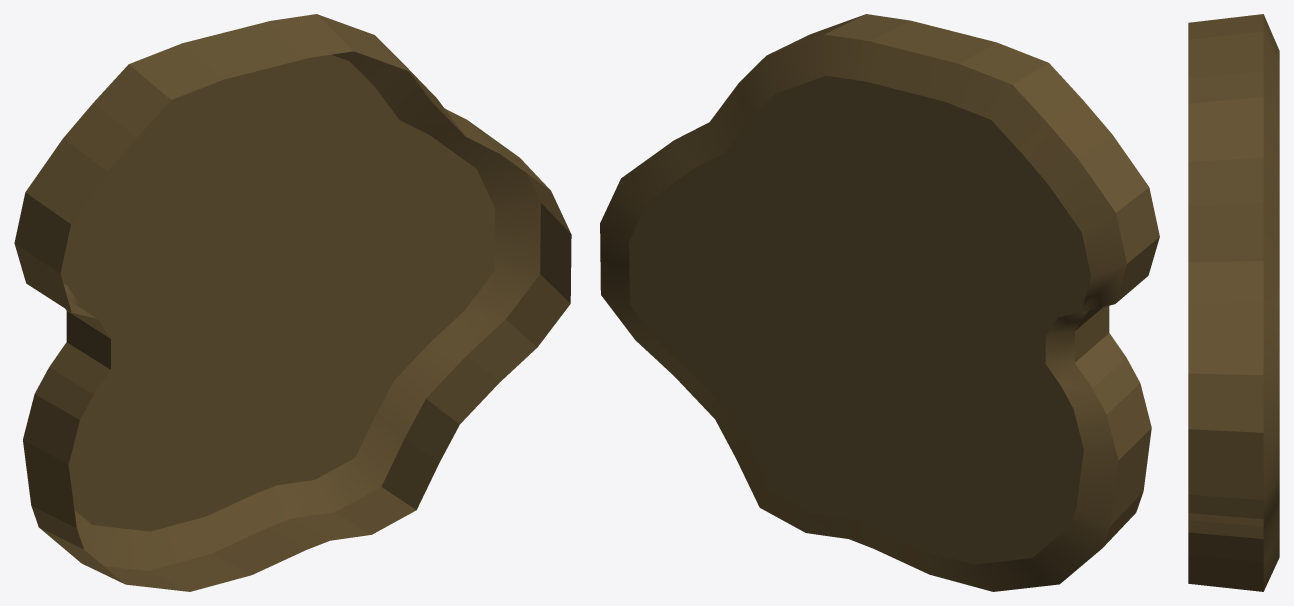
Rendered from Ground Soil 01.FBX.
The picture shows the model from 3 angles, left to right: view 1: azimuth 30°, elevation 25°; view 2: azimuth 150°, elevation 25°; view 3: azimuth 270°, elevation 25°; orthographic projection. The views are drawn at different scales.
Parts seen in each view (by area): view 1: Ground Soil 01; view 2: Ground Soil 01; view 3: Ground Soil 01.
Part boxes in pixels (x1,y1,x2,y2): Ground Soil 01: (14, 14, 571, 591); Ground Soil 01: (600, 14, 1159, 591); Ground Soil 01: (1188, 14, 1279, 591).
Bounding box in the file's own units: 1243 × 196 × 1174.
